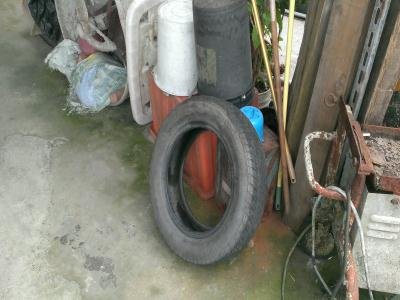bucket: (193, 1, 257, 109), (149, 1, 203, 98)
plastic_bag: (66, 51, 126, 112)
tire: (149, 93, 267, 268)
